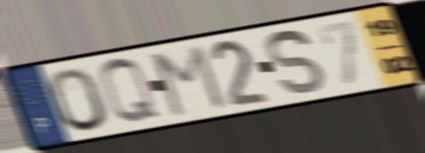2: (211, 37, 271, 107)
7: (314, 18, 360, 89)
M: (149, 42, 230, 119)
O: (47, 66, 111, 134)
Q: (98, 56, 165, 127)
S: (265, 28, 327, 97)
